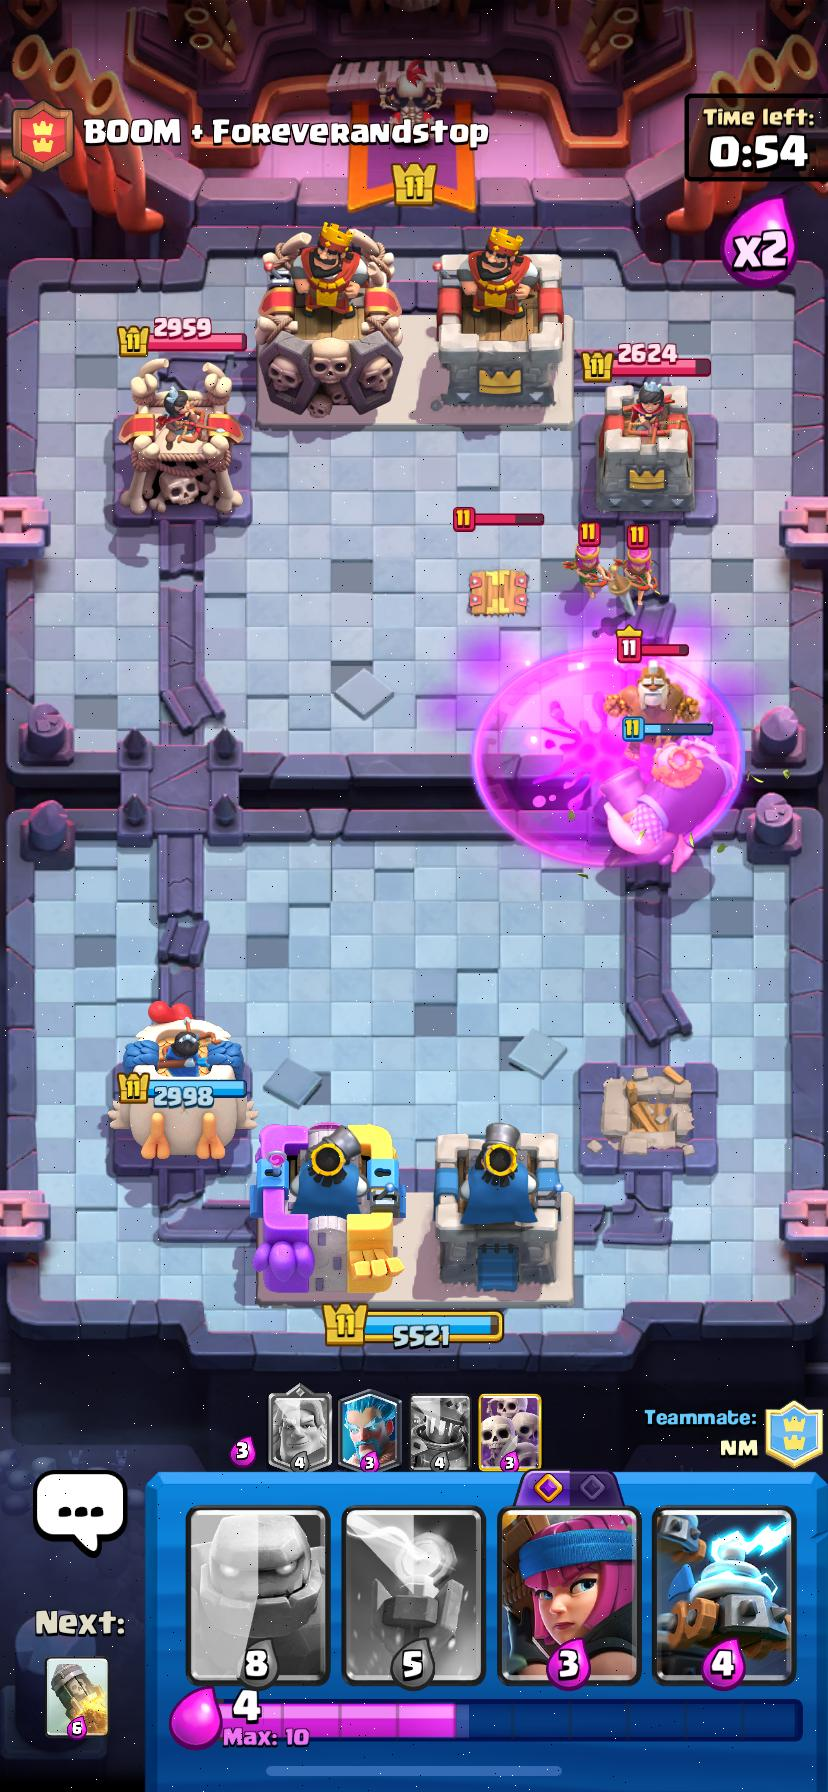EArcher: (563, 523, 607, 597), (624, 523, 656, 606)
EKingTower: (256, 223, 401, 417), (433, 227, 567, 408)
EMonk: (604, 645, 701, 728)
ETesla: (468, 570, 525, 617)
EnemyPrincessTower: (580, 359, 709, 519), (118, 359, 242, 515)
ORoyalG: (604, 738, 737, 870)
OwnKingTower: (253, 1123, 403, 1299), (433, 1122, 573, 1302)
OwnPrincessTower: (114, 1003, 247, 1158)
TowerDown: (579, 1063, 717, 1175)
